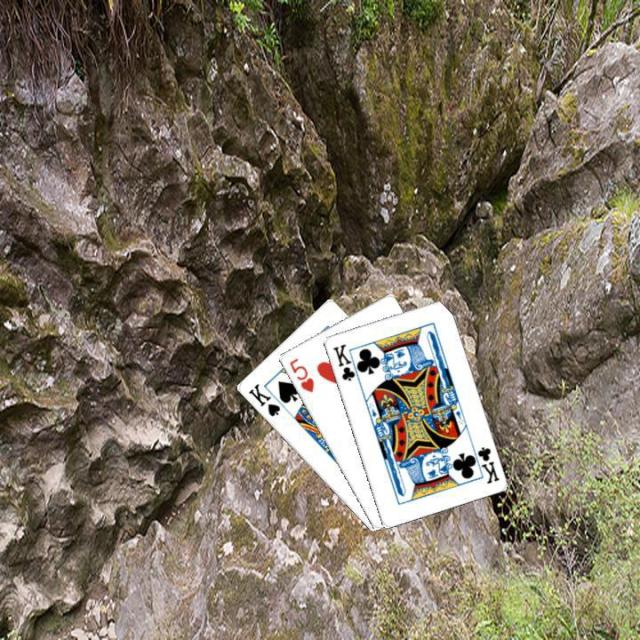5H: (286, 354, 316, 394)
KC: (329, 340, 362, 383), (468, 441, 500, 485)
KS: (244, 379, 282, 418)
